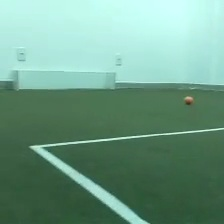ball: (183, 94, 194, 105)
goal: (9, 66, 118, 92)
